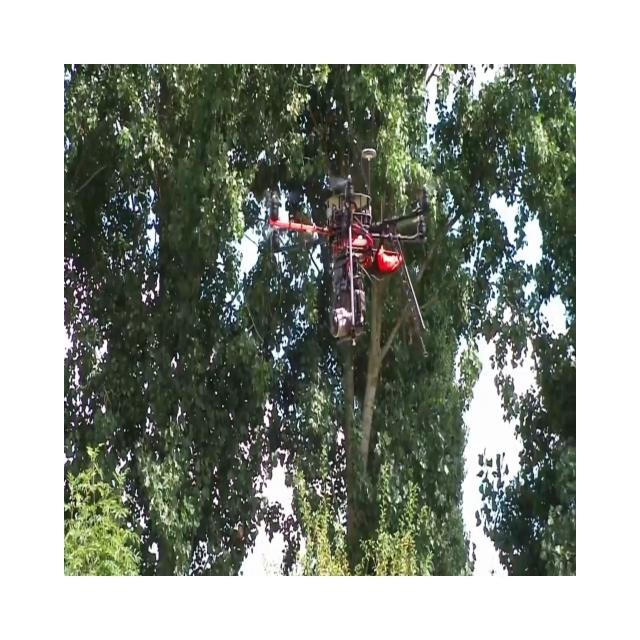drone: (262, 146, 432, 346)
